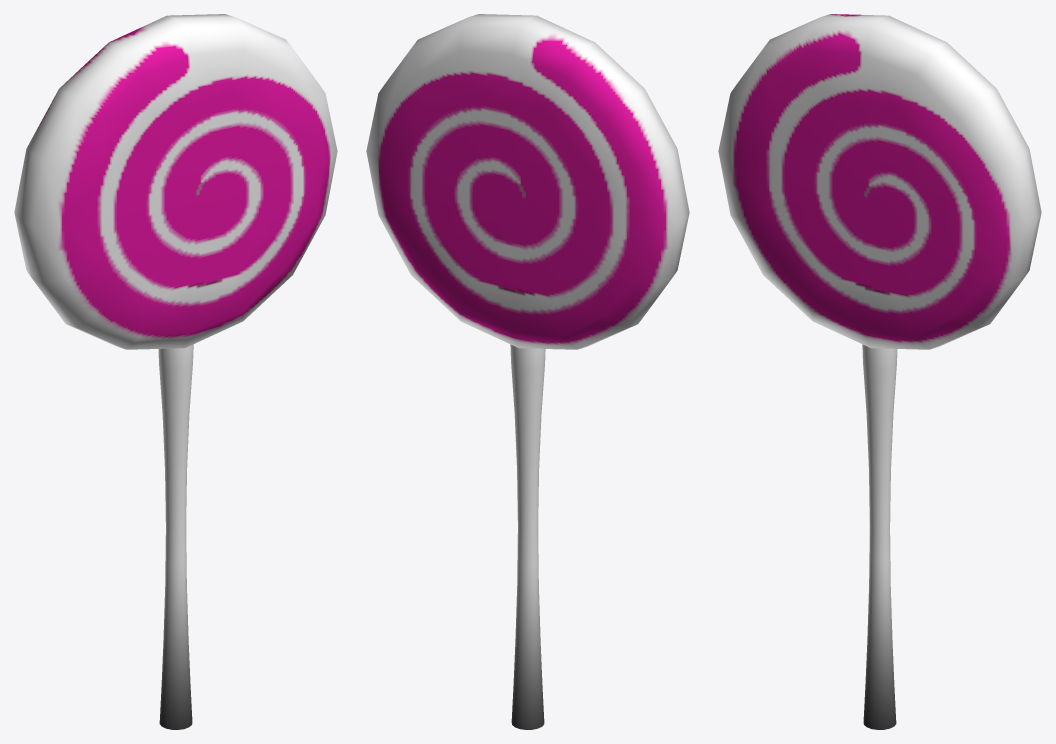
File: lecca lecca.fbx
3 renders of one model, left to right at view 1: azimuth 30°, elevation 25°; view 2: azimuth 150°, elevation 25°; view 3: azimuth 330°, elevation 25°, orthographic.
Visible parts, largest first — view 1: leccalecca; view 2: leccalecca; view 3: leccalecca.
Boxes of the visible parts, left/top/right/bottom form: leccalecca: left=14, top=14, right=337, bottom=729; leccalecca: left=366, top=14, right=689, bottom=729; leccalecca: left=718, top=14, right=1041, bottom=729.
Size of the model in its own units: 116 by 251 by 23.26.
